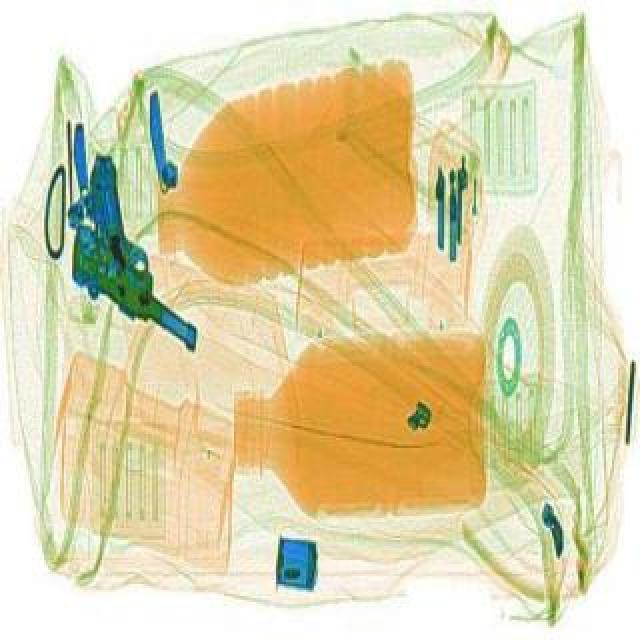gun: (20, 148, 260, 360)
